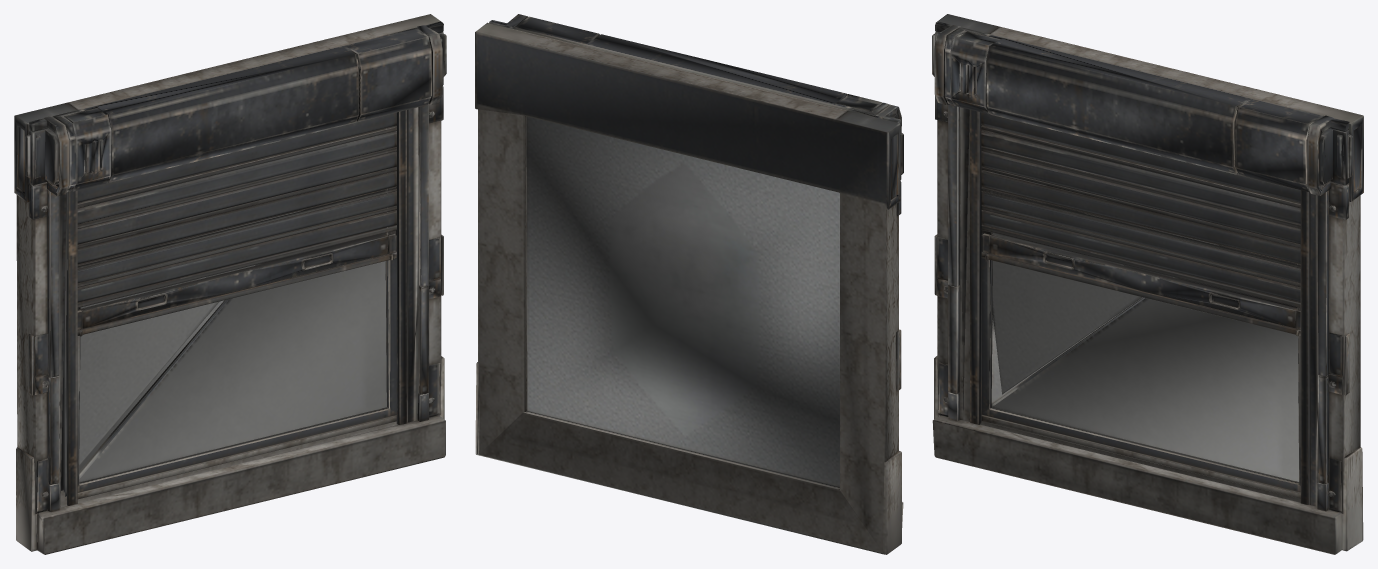
The model's file is window_shutter.glb.
3 renders of one model, left to right at view 1: azimuth 30°, elevation 25°; view 2: azimuth 150°, elevation 25°; view 3: azimuth 330°, elevation 25°, orthographic.
Visible parts, largest first — view 1: Mesh_0; view 2: Mesh_0; view 3: Mesh_0.
Part boxes in pixels (x1,y1,x2,y2): Mesh_0: [14, 14, 446, 554]; Mesh_0: [475, 14, 903, 554]; Mesh_0: [932, 14, 1363, 554].
Bounding box in the file's own units: 1.8 × 1.76 × 0.22.
Materials: 1 (1 with a texture image).
